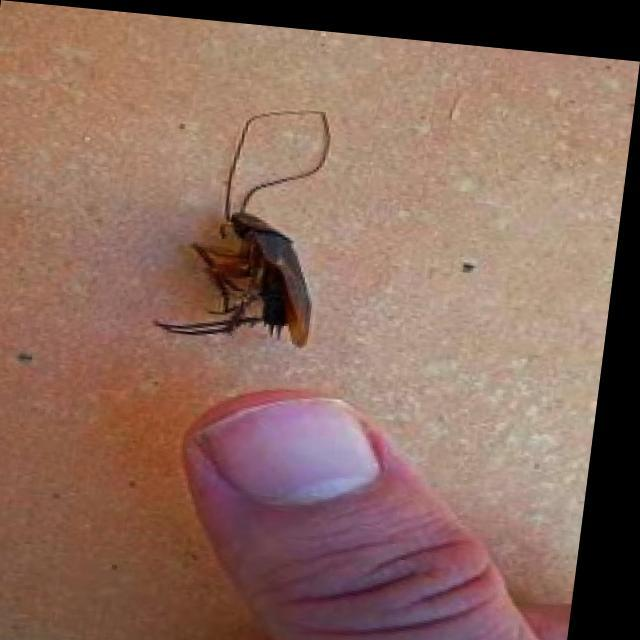cockroach: (151, 105, 335, 350)
